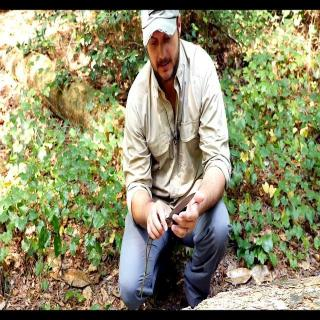knife: (146, 188, 198, 242)
